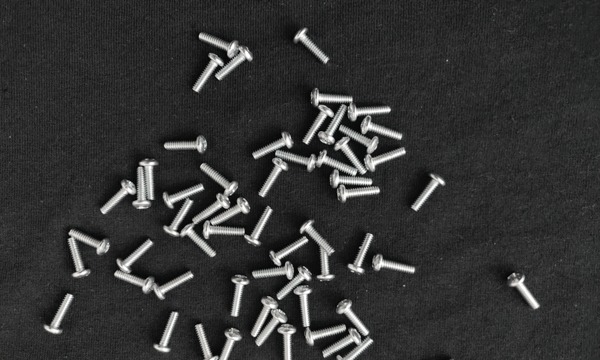shortscrew: (116, 237, 155, 274), (412, 171, 446, 212), (293, 27, 330, 64), (201, 161, 239, 197), (44, 292, 75, 336), (180, 222, 217, 258), (333, 137, 368, 175), (303, 105, 336, 145), (277, 265, 313, 301), (100, 179, 137, 214), (216, 46, 254, 80), (258, 157, 289, 198), (299, 220, 335, 255), (154, 270, 196, 300), (506, 273, 540, 310), (336, 299, 369, 337), (193, 53, 224, 93), (252, 131, 294, 160), (257, 308, 288, 347), (275, 145, 318, 173), (269, 237, 309, 267), (163, 198, 193, 238), (340, 124, 380, 154), (245, 206, 274, 247), (68, 228, 112, 255), (365, 146, 409, 173), (193, 193, 231, 224), (323, 329, 362, 359), (162, 182, 205, 209), (348, 232, 374, 276), (212, 197, 251, 226), (317, 150, 358, 177), (252, 296, 278, 338), (361, 116, 403, 142), (199, 33, 240, 59), (67, 236, 91, 279), (337, 184, 384, 205), (154, 312, 178, 353), (305, 324, 347, 346), (115, 271, 155, 294), (330, 169, 373, 190), (194, 323, 218, 360), (372, 255, 415, 275), (165, 134, 208, 154), (231, 274, 251, 317), (140, 158, 160, 200), (293, 286, 313, 327), (133, 167, 152, 210), (310, 88, 353, 107), (203, 221, 246, 240), (336, 338, 373, 360), (218, 328, 243, 360), (252, 261, 294, 280), (347, 104, 391, 122), (318, 246, 336, 282), (278, 324, 296, 360), (415, 357, 459, 360)
